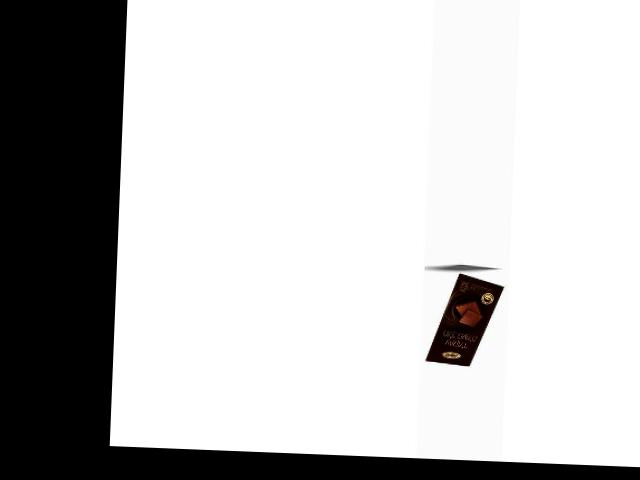chocolate: (424, 268, 507, 369)
